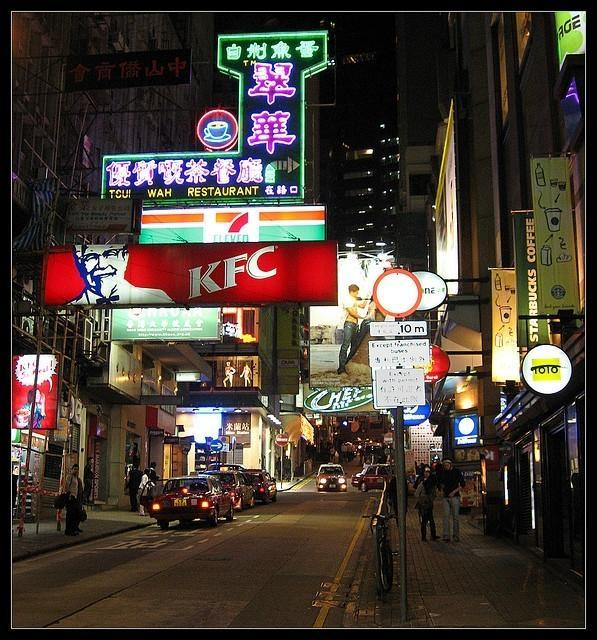bicycle: (358, 508, 401, 594)
car: (139, 476, 234, 530), (201, 470, 255, 511), (240, 468, 278, 502), (350, 464, 390, 494), (314, 462, 347, 492), (204, 463, 248, 472)
